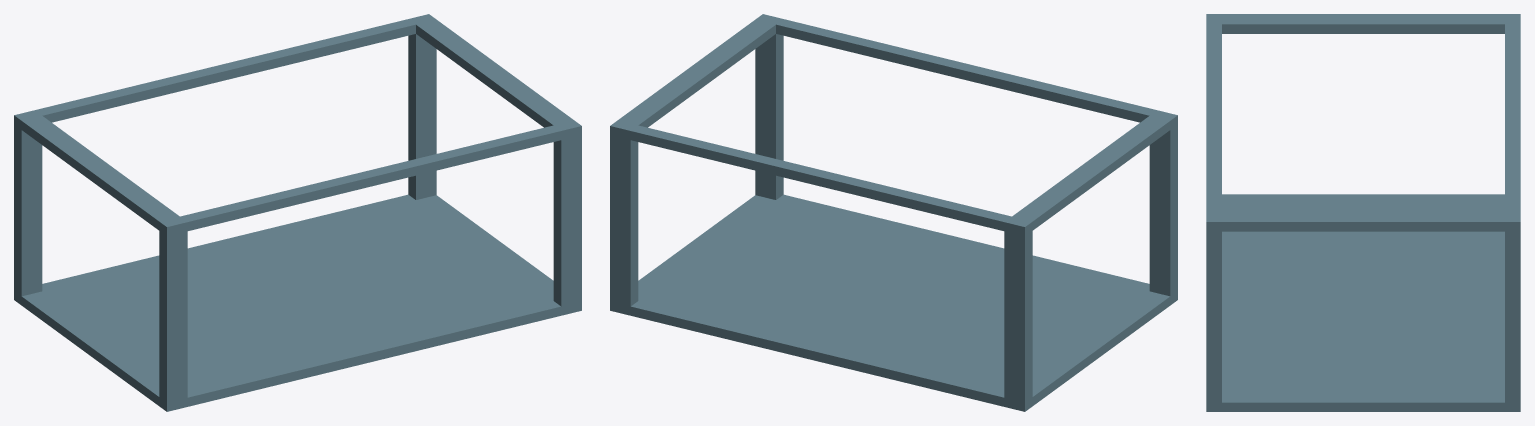
File: simple-aquarium.glb
The picture shows the model from 3 angles, left to right: view 1: azimuth 30°, elevation 25°; view 2: azimuth 150°, elevation 25°; view 3: azimuth 270°, elevation 25°; orthographic projection. The views are drawn at different scales.
Visible parts, largest first — view 1: Mesh_Mesh_head_geo.001_lambert2SG.001; view 2: Mesh_Mesh_head_geo.001_lambert2SG.001; view 3: Mesh_Mesh_head_geo.001_lambert2SG.001.
Part boxes in pixels (x1,y1,x2,y2): Mesh_Mesh_head_geo.001_lambert2SG.001: [14, 14, 581, 411]; Mesh_Mesh_head_geo.001_lambert2SG.001: [610, 14, 1177, 411]; Mesh_Mesh_head_geo.001_lambert2SG.001: [1206, 14, 1520, 411].
Bounding box in the file's own units: 47 × 20 × 30.
